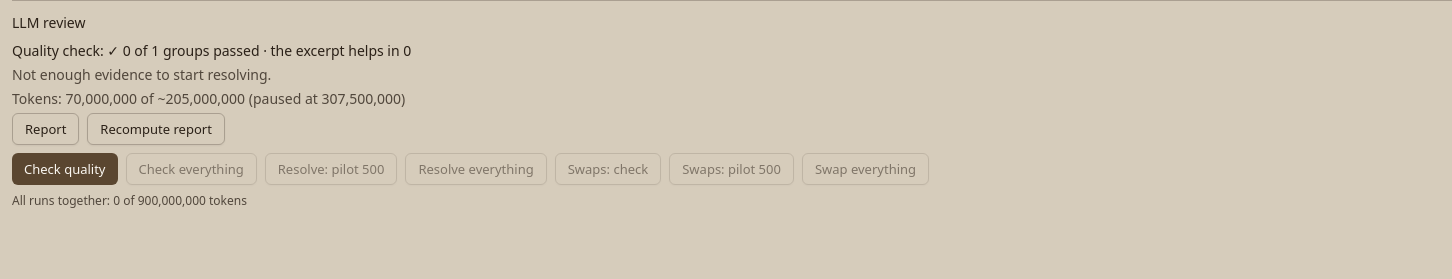
Test: AuthorLLMBlock › says why a recompute was refused when the answers changed
Click the button "Recompute report" at (156, 129), box x1=87 y1=113 x2=225 y2=145
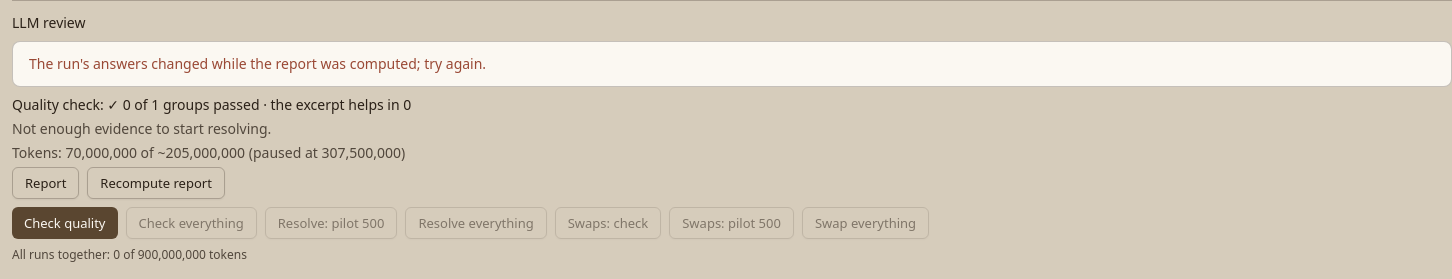
Check: the text "The run's answers changed while the report was computed; try again." is shown, box x1=29 y1=54 x2=486 y2=73
